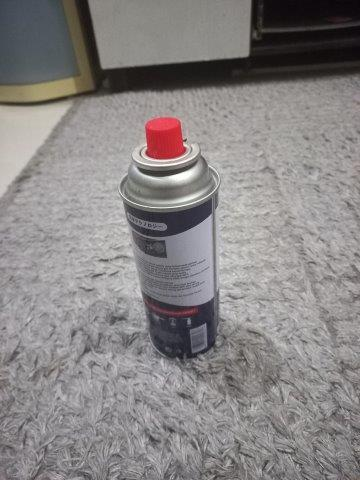kaleng: (117, 117, 221, 362)
